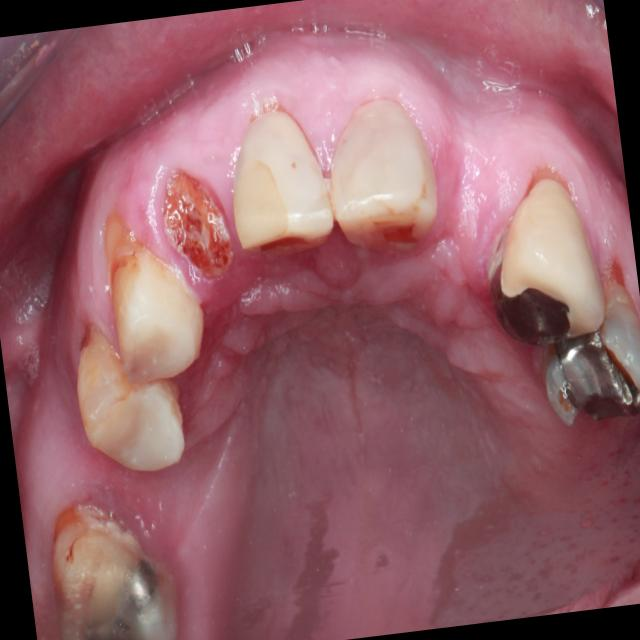tooth: (472, 148, 618, 360), (20, 481, 188, 640), (60, 298, 198, 489), (516, 230, 640, 438), (314, 87, 451, 275), (89, 189, 215, 393), (215, 99, 339, 272), (149, 152, 247, 300)
